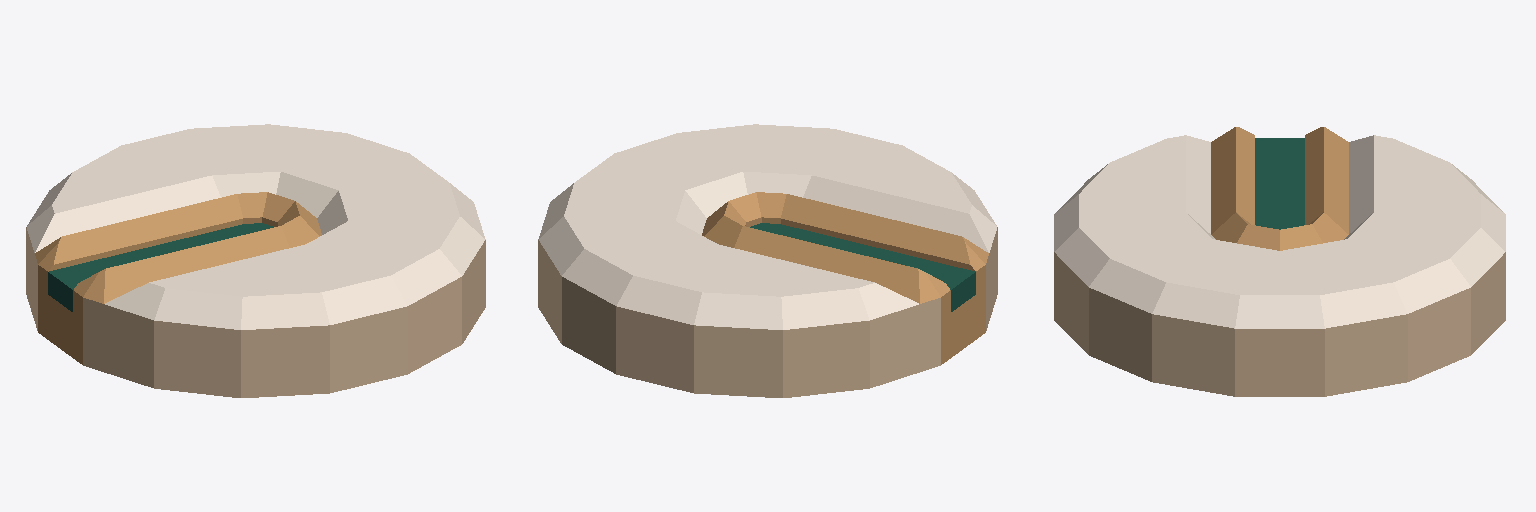
The model's file is Puzzle_Floor_Conduit_Rotating_Platform_End.obj.
3 renders of one model, left to right at view 1: azimuth 30°, elevation 25°; view 2: azimuth 150°, elevation 25°; view 3: azimuth 270°, elevation 25°, orthographic.
Visible parts, largest first — view 1: object2, object1; view 2: object2, object1; view 3: object2, object1.
Boxes of the visible parts, x1,y1,x2,y2 form: object2: [26, 124, 485, 397]; object1: [48, 223, 273, 311]; object2: [538, 124, 997, 397]; object1: [750, 223, 975, 311]; object2: [1054, 127, 1505, 396]; object1: [1255, 138, 1304, 229].
Bounding box in the file's own units: 0.9 × 0.2 × 0.9.